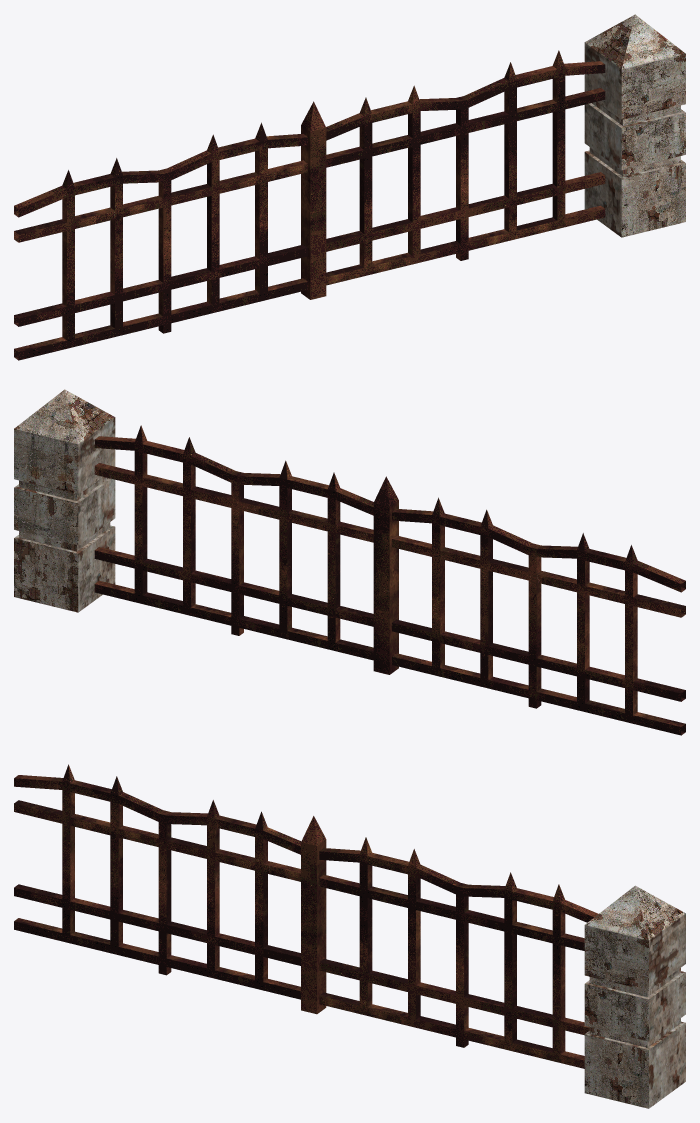
Rendered from SM_Fence_01.gltf.
The picture shows the model from 3 angles, top to bottom: view 1: azimuth 30°, elevation 25°; view 2: azimuth 150°, elevation 25°; view 3: azimuth 330°, elevation 25°; orthographic projection.
Parts seen in each view (by area): view 1: SM_Fence_01; view 2: SM_Fence_01; view 3: SM_Fence_01.
Part boxes in pixels (left/top/right/bottom): SM_Fence_01: left=14, top=14, right=685, bottom=360; SM_Fence_01: left=14, top=389, right=685, bottom=735; SM_Fence_01: left=14, top=764, right=685, bottom=1108.
Size of the model in its own units: 8.1 by 2.4 by 0.8.
